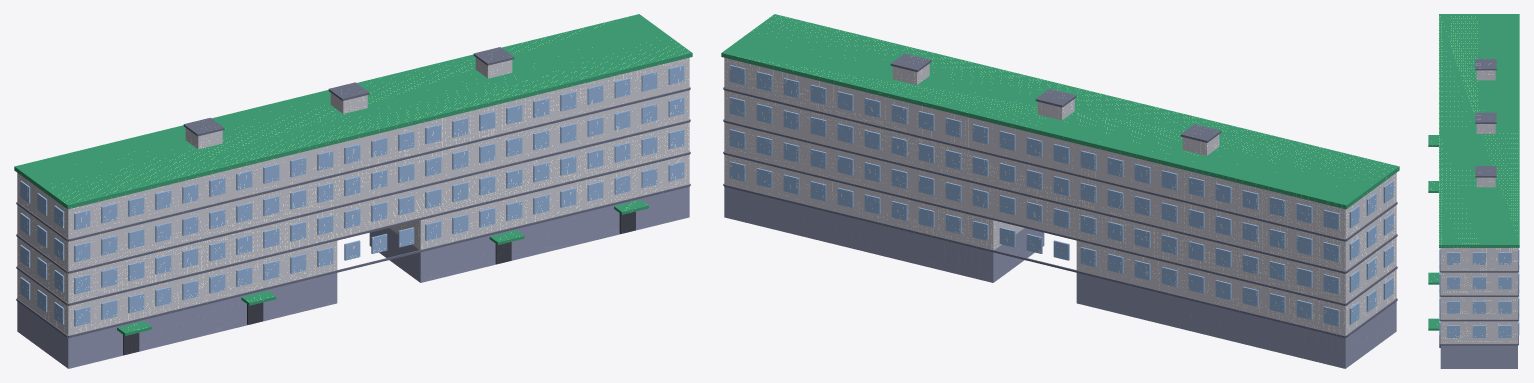
File: panel-5x1-l1.glb
The picture shows the model from 3 angles, left to right: view 1: azimuth 30°, elevation 25°; view 2: azimuth 150°, elevation 25°; view 3: azimuth 270°, elevation 25°; orthographic projection. The views are drawn at different scales.
Parts seen in each view (by area): view 1: panel-5x1-l1; view 2: panel-5x1-l1; view 3: panel-5x1-l1.
Part boxes in pixels (x1,y1,x2,y2): panel-5x1-l1: [14, 14, 692, 368]; panel-5x1-l1: [721, 14, 1399, 368]; panel-5x1-l1: [1428, 14, 1519, 368].
Size of the model in its own units: 9.76 by 2.69 by 1.63.
1 material, 1 textured.
